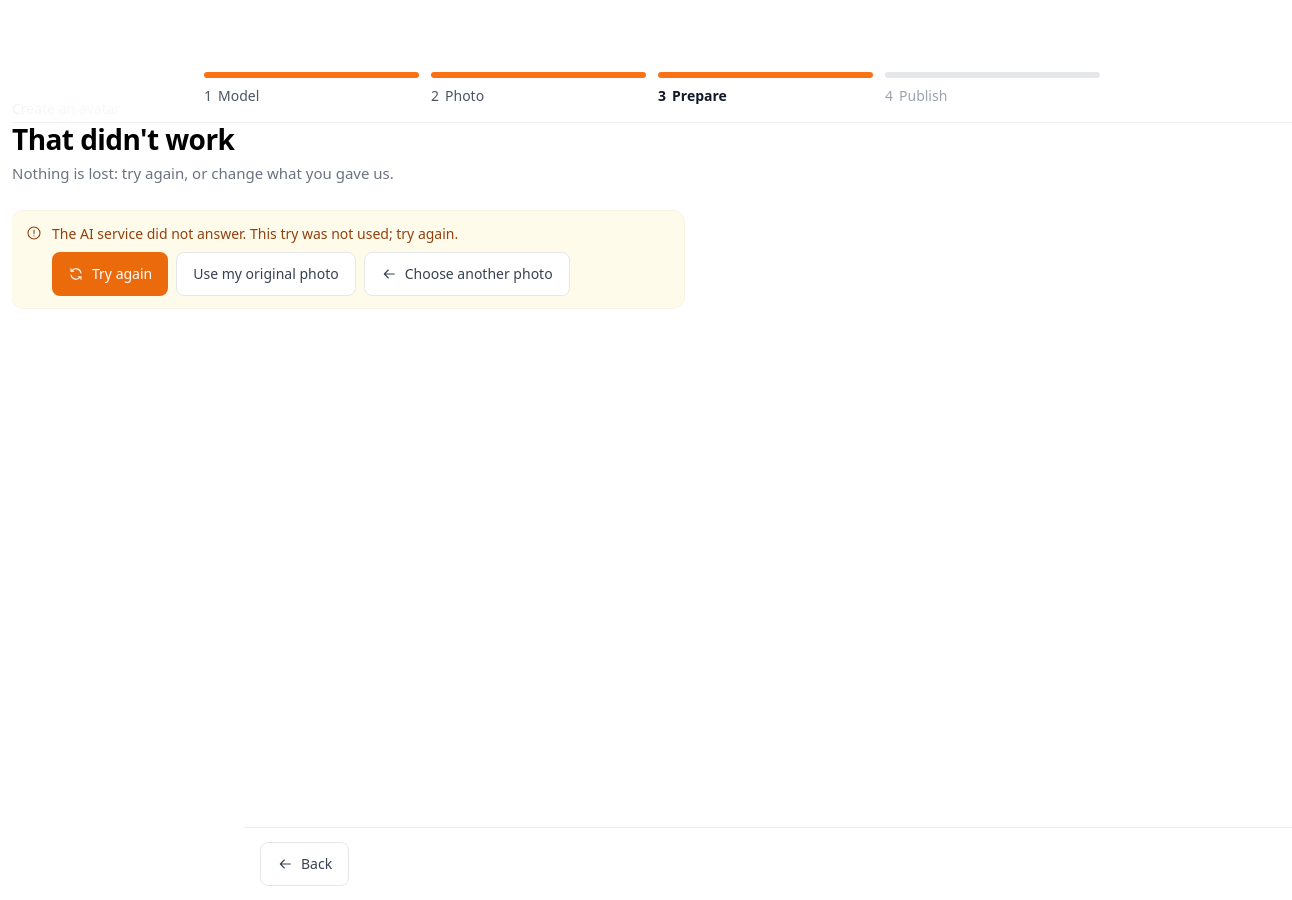
it: step 3: Prepare › a refused prepare is said with its next action
Expected: the heading "That didn't work" is shown, [12, 120, 234, 158]
Step 1. Click the button "Try again" → click(110, 274), box [52, 252, 168, 296]
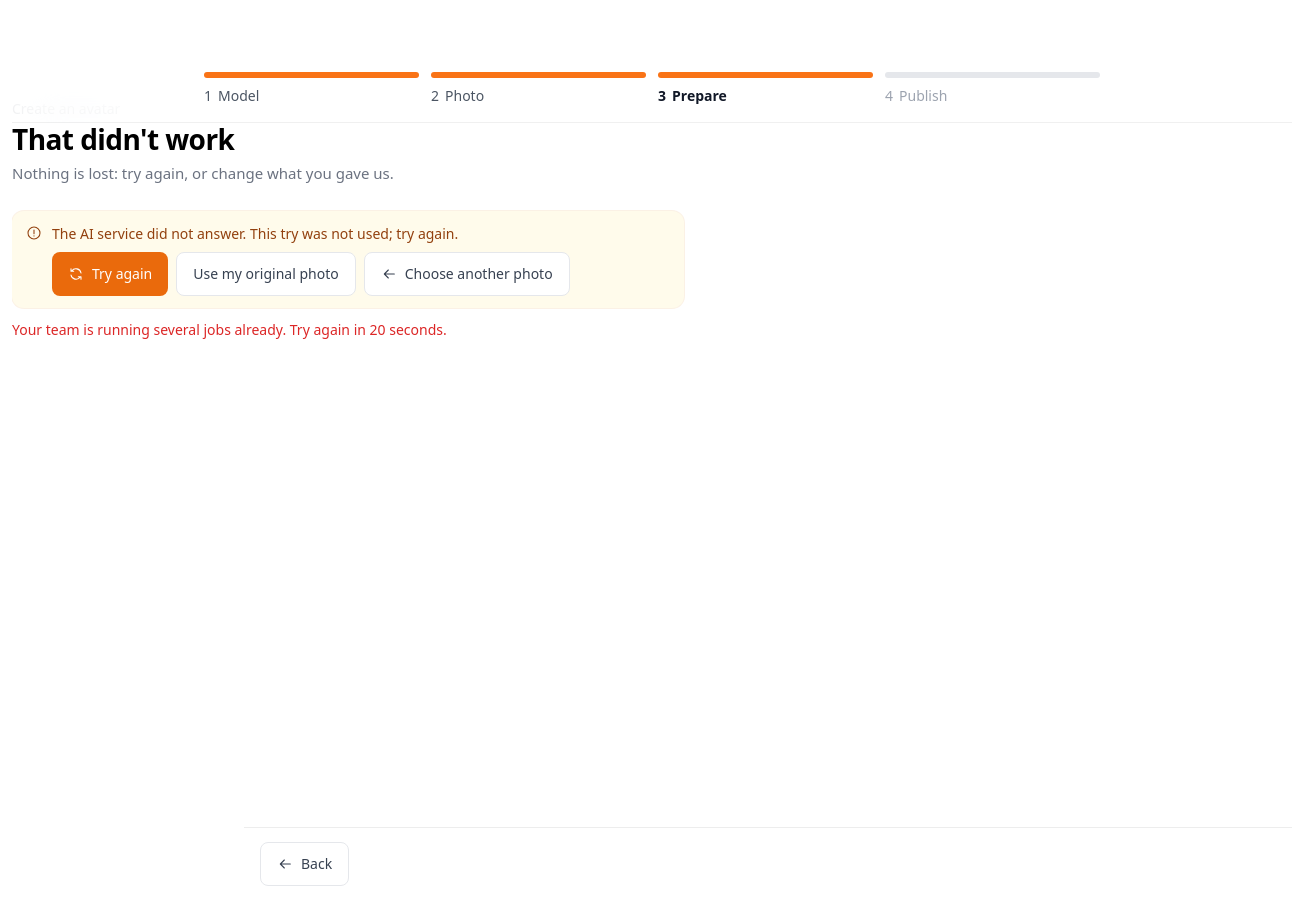
Expected: the text "Your team is running several jobs already. Try again in 20 seconds." is shown, [12, 320, 447, 339]
